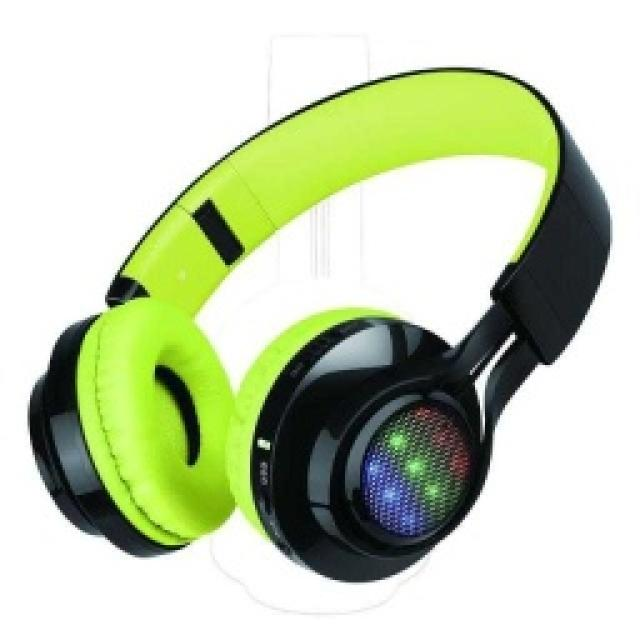headphones: (25, 63, 613, 585)
